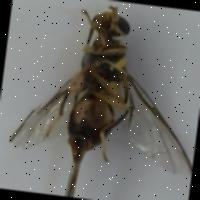Oriental-fruit-fly: (2, 0, 200, 176)
